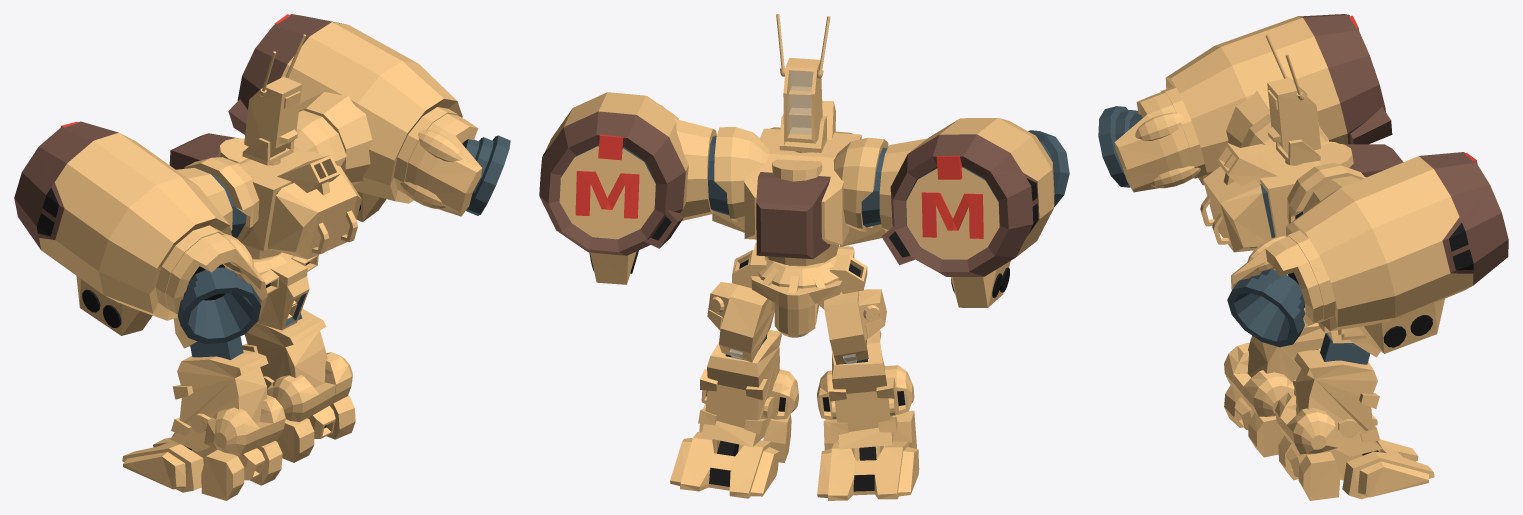
File: robot.obj
3 views of the same model, side by side, from view 1: azimuth 30°, elevation 25°; view 2: azimuth 150°, elevation 25°; view 3: azimuth 270°, elevation 25° (orthographic). The views are drawn at different scales.
Visible parts, largest first — view 1: group27179708, group2086800077, group69747085, group1051570865, group2023121385, group2092722019, group1061103435, group550998626, group759171181, group471669064, group1030928403, group804103550 (+12 smaller); view 2: group27179708, group2086800077, group2027200265, group518309456, group1061103435, group848655876, group2092722019, group69747085, group1051570865, group2023121385, group804103550, group550998626 (+17 smaller); view 3: group2086800077, group27179708, group69747085, group2092722019, group2023121385, group1051570865, group1946195621, group1271815870, group294565524, group908527516, group804103550, group473826257 (+8 smaller).
Boxes of the visible parts, x1,y1,x2,y2 form: group27179708: [14, 121, 267, 343]; group2086800077: [228, 14, 510, 221]; group69747085: [236, 150, 361, 259]; group1051570865: [170, 350, 268, 451]; group2023121385: [242, 34, 306, 165]; group2092722019: [244, 308, 327, 387]; group1061103435: [253, 252, 318, 330]; group550998626: [183, 157, 259, 241]; group759171181: [267, 375, 335, 421]; group471669064: [204, 407, 259, 455]; group1030928403: [201, 449, 244, 500]; group804103550: [293, 110, 346, 166]; group27179708: [879, 118, 1069, 307]; group2086800077: [539, 92, 716, 284]; group2027200265: [559, 134, 656, 239]; group518309456: [906, 155, 999, 259]; group1061103435: [732, 243, 867, 337]; group848655876: [756, 172, 830, 258]; group2092722019: [701, 330, 781, 446]; group69747085: [744, 101, 861, 244]; group1051570865: [831, 330, 894, 449]; group2023121385: [776, 14, 830, 152]; group804103550: [708, 127, 769, 221]; group550998626: [833, 137, 888, 231]; group2086800077: [1227, 152, 1508, 353]; group27179708: [1098, 14, 1392, 192]; group69747085: [1200, 141, 1365, 252]; group2092722019: [1294, 350, 1382, 456]; group2023121385: [1265, 34, 1320, 165]; group1051570865: [1247, 323, 1326, 383]; group1946195621: [1286, 408, 1338, 454]; group1271815870: [1233, 370, 1294, 416]; group294565524: [1358, 461, 1428, 497]; group908527516: [1298, 452, 1340, 500]; group804103550: [1287, 163, 1365, 223]; group473826257: [1342, 447, 1434, 499].
Size of the model in its own units: 1.85 by 1.65 by 1.44.
